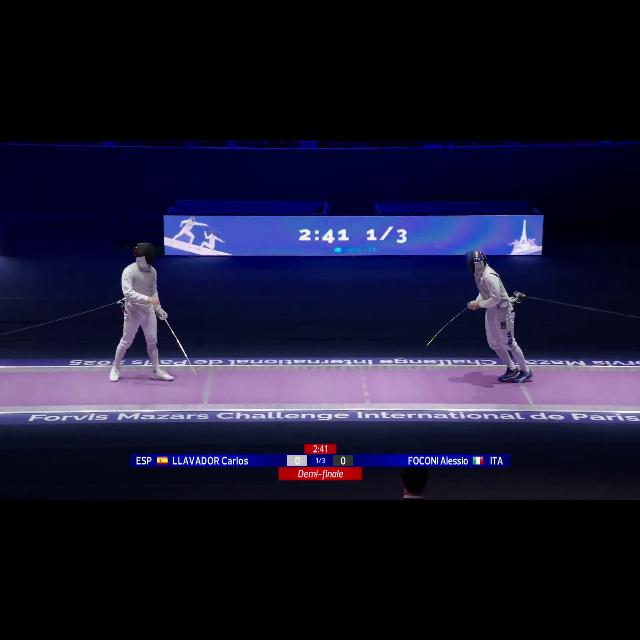blade: (160, 314, 202, 378), (424, 302, 476, 348)
